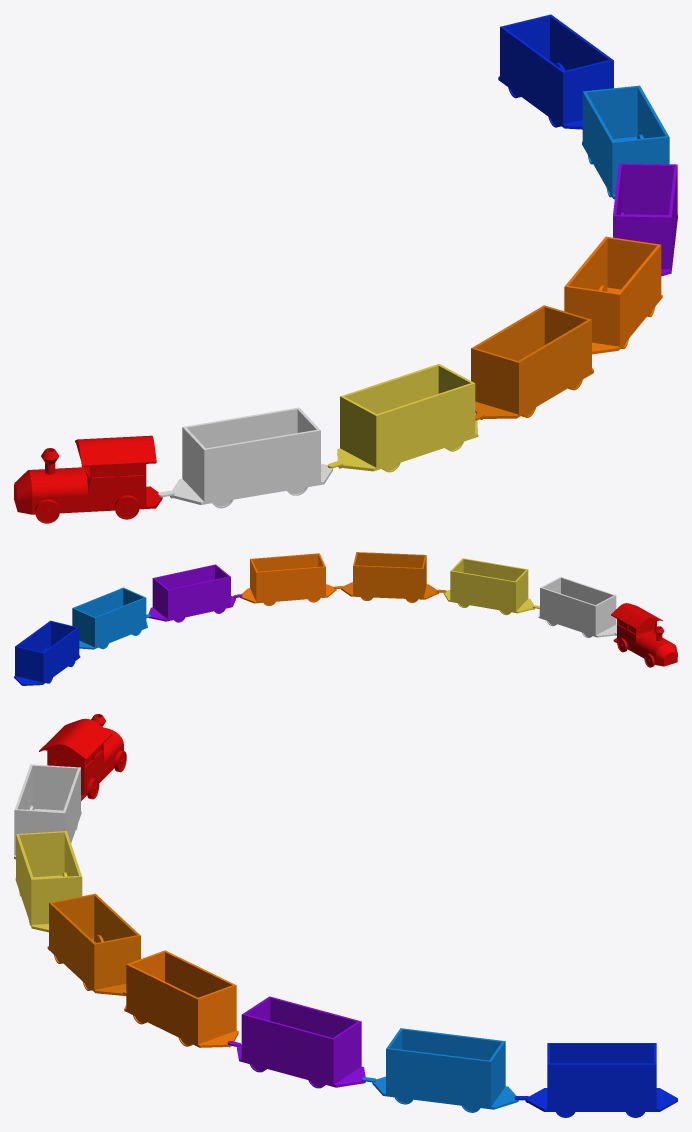
The model's file is Train_Car.fbx.
3 renders of one model, top to bottom at view 1: azimuth 30°, elevation 25°; view 2: azimuth 150°, elevation 25°; view 3: azimuth 270°, elevation 25°, orthographic. The views are drawn at different scales.
Visible parts, largest first — view 1: Train_Car; view 2: Train_Car; view 3: Train_Car.
Boxes of the visible parts, left/top/right/bottom form: Train_Car: left=14, top=14, right=677, bottom=523; Train_Car: left=14, top=552, right=677, bottom=685; Train_Car: left=14, top=714, right=677, bottom=1117.
Bounding box in the file's own units: 75.26 × 5.79 × 58.17.
